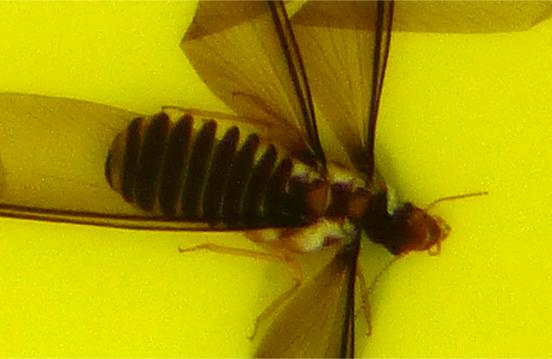Isoptera: (100, 100, 452, 259)
